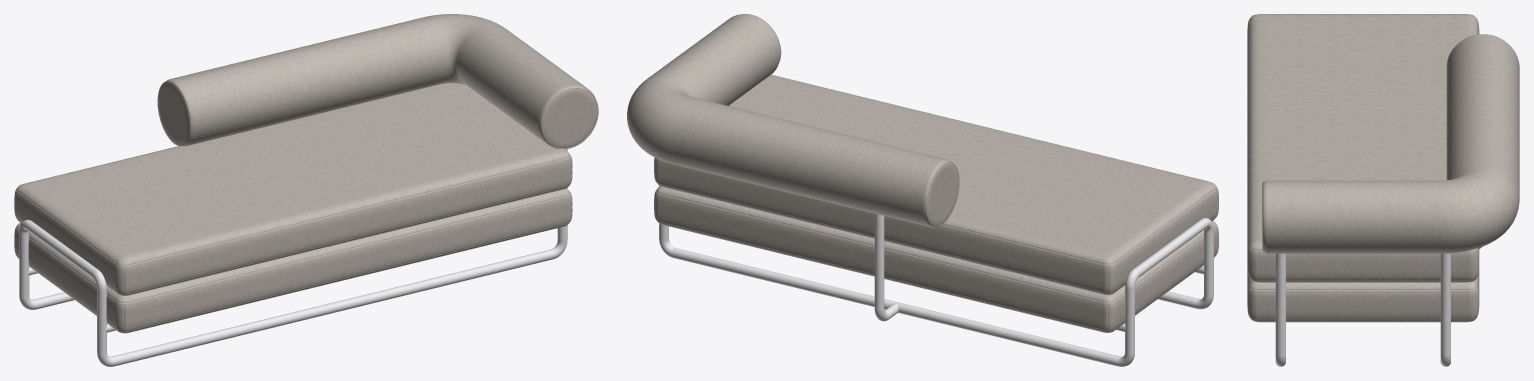
Rendered from sofa4.glb.
3 renders of one model, left to right at view 1: azimuth 30°, elevation 25°; view 2: azimuth 150°, elevation 25°; view 3: azimuth 270°, elevation 25°, orthographic. The views are drawn at different scales.
Parts seen in each view (by area): view 1: 2987333.001; view 2: 2987333.001; view 3: 2987333.001.
Boxes of the visible parts, x1,y1,x2,y2 form: 2987333.001: [14, 14, 598, 366]; 2987333.001: [627, 14, 1218, 366]; 2987333.001: [1247, 14, 1519, 366].
Bounding box in the file's own units: 1.91 × 0.65 × 0.86.
1 material, 1 textured.
